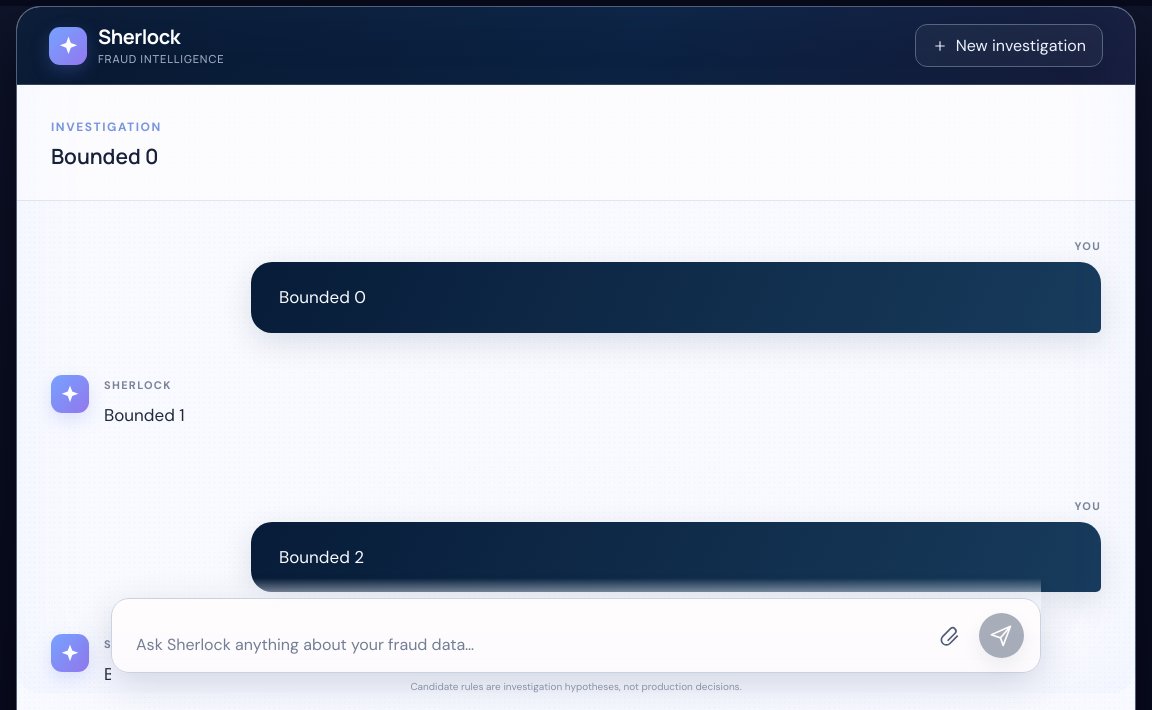
Scenario: Sherlock application › retains failed turns in bounded retry history
In the text box labelled "Ask Sherlock": (514, 643) [112, 615, 915, 672], type "Failed turn"
Then press Enter
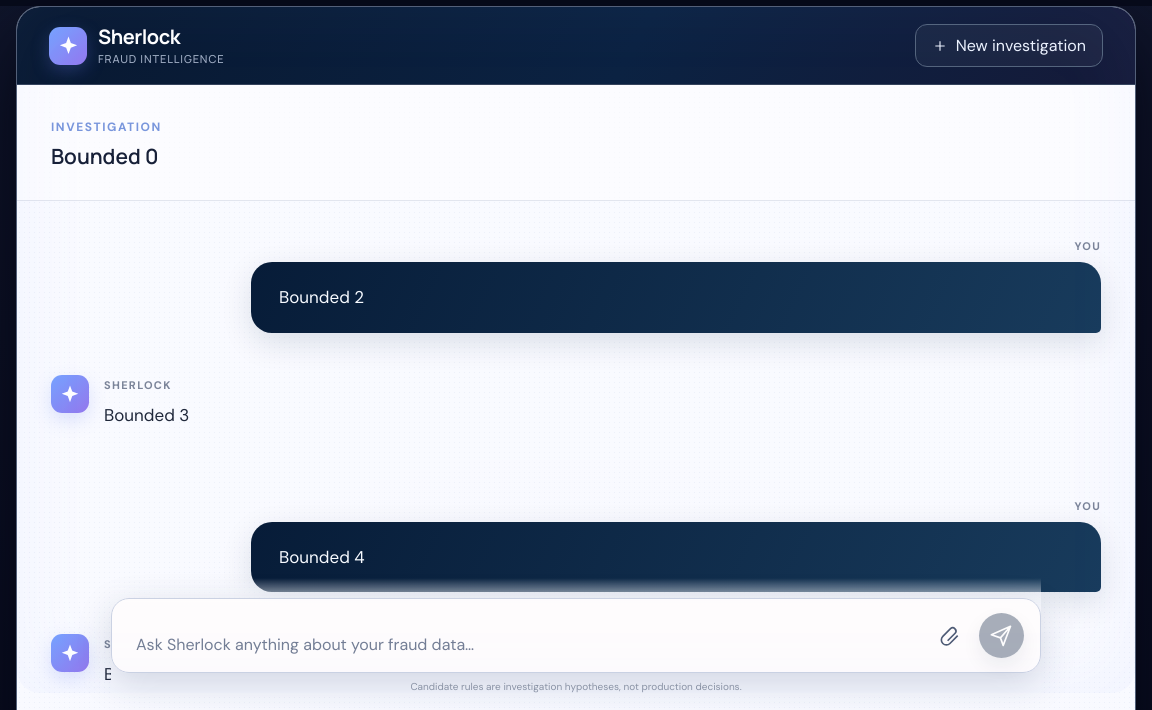
In the text box labelled "Ask Sherlock": (514, 643) [112, 615, 915, 672], type "Retry"
Then press Enter
(page scrolled)
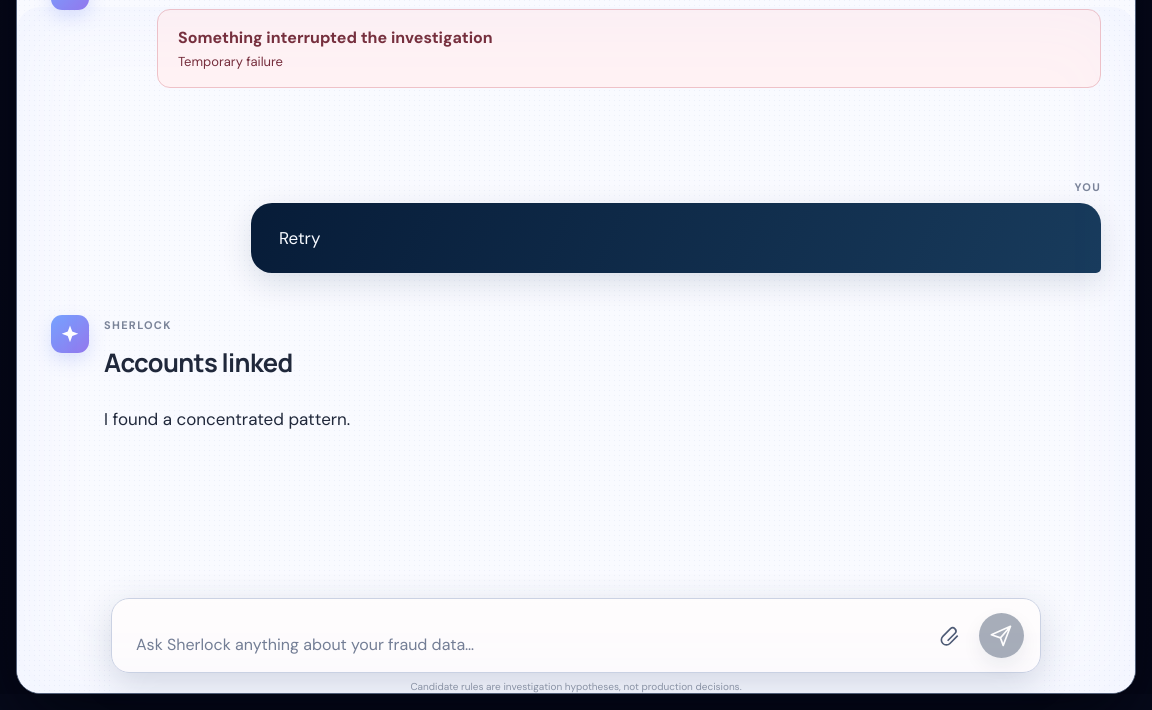
Expected: the text "I found a concentrated pattern." is shown, [104, 408, 350, 430]
